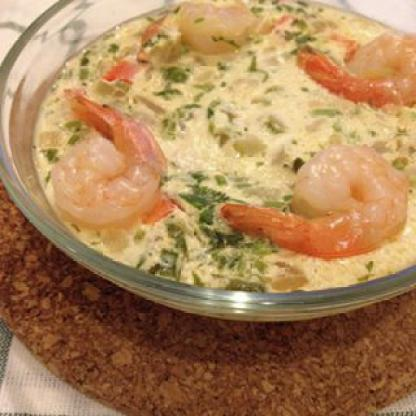Kaithoon: (2, 1, 415, 319)
